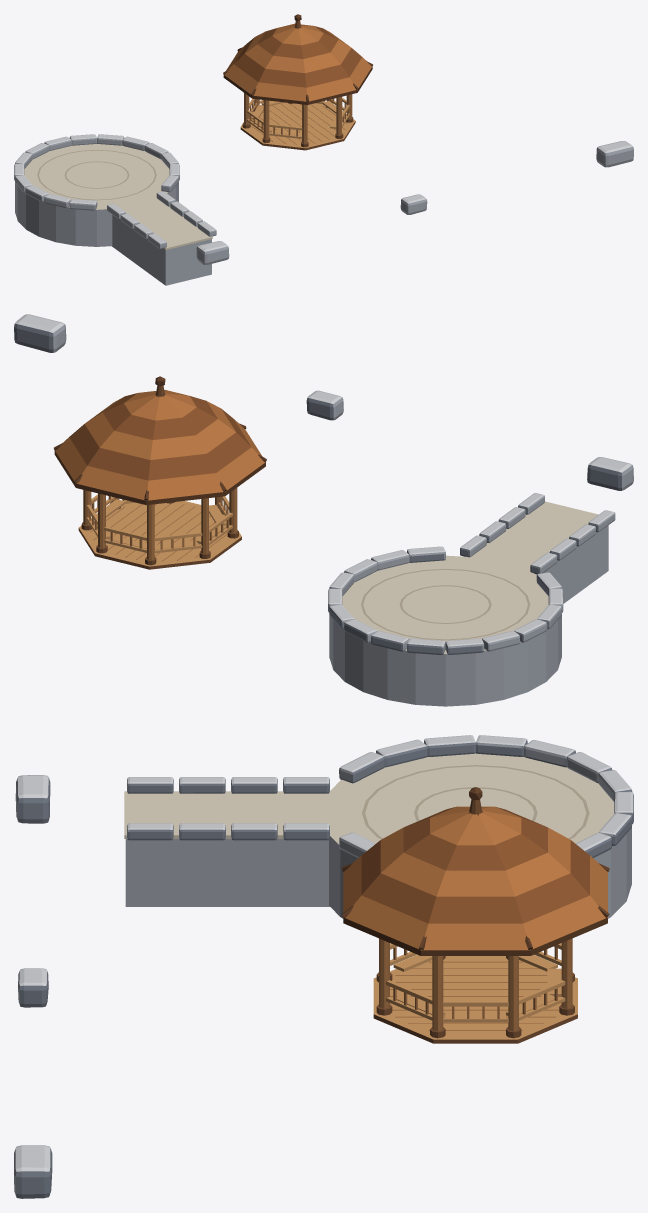
The model's file is LakeKit.glb.
The picture shows the model from 3 angles, top to bottom: view 1: azimuth 30°, elevation 25°; view 2: azimuth 150°, elevation 25°; view 3: azimuth 270°, elevation 25°; orthographic projection. The views are drawn at different scales.
Parts seen in each view (by area): view 1: GazeboBase__Stone_Side, GazeboBase__Pave, Gazebo__Roof_Light, Gazebo__Wood_Light, Gazebo__Roof_Dark, GazeboBase__Stone_Top, Gazebo__Wood_Mid, Gazebo__Roof_Trim, GazeboBase__Pave_Dark, Gazebo__Wood_Dark, RimStoneC__Stone_Side, RimStoneA__Stone_Side; view 2: GazeboBase__Stone_Side, GazeboBase__Pave, Gazebo__Roof_Light, Gazebo__Wood_Light, Gazebo__Roof_Dark, GazeboBase__Stone_Top, Gazebo__Wood_Mid, GazeboBase__Stone_Shadow, Gazebo__Roof_Trim, GazeboBase__Pave_Dark, Gazebo__Wood_Dark, RimStoneC__Stone_Shadow (+1 smaller); view 3: GazeboBase__Pave, GazeboBase__Stone_Side, Gazebo__Roof_Light, Gazebo__Roof_Dark, Gazebo__Wood_Light, GazeboBase__Stone_Shadow, GazeboBase__Stone_Top, Gazebo__Wood_Mid, Gazebo__Roof_Trim, Gazebo__Wood_Dark, GazeboBase__Pave_Dark, RimStoneC__Stone_Shadow (+4 smaller).
Part boxes in pixels (<box>): GazeboBase__Stone_Side: <box>14,137,216,285</box>; GazeboBase__Pave: <box>24,144,212,250</box>; Gazebo__Roof_Light: <box>224,23,371,101</box>; Gazebo__Wood_Light: <box>241,97,355,148</box>; Gazebo__Roof_Dark: <box>234,26,361,87</box>; GazeboBase__Stone_Top: <box>14,134,215,243</box>; Gazebo__Wood_Mid: <box>244,93,352,144</box>; Gazebo__Roof_Trim: <box>223,14,372,104</box>; GazeboBase__Pave_Dark: <box>37,150,156,200</box>; Gazebo__Wood_Dark: <box>240,20,355,150</box>; RimStoneC__Stone_Side: <box>596,147,633,167</box>; RimStoneA__Stone_Side: <box>196,246,229,264</box>; GazeboBase__Stone_Side: <box>329,495,615,706</box>; GazeboBase__Pave: <box>342,501,598,653</box>; Gazebo__Roof_Light: <box>55,390,264,500</box>; Gazebo__Wood_Light: <box>79,494,241,566</box>; Gazebo__Roof_Dark: <box>69,393,251,480</box>; GazeboBase__Stone_Top: <box>328,493,614,646</box>; Gazebo__Wood_Mid: <box>83,488,237,561</box>; GazeboBase__Stone_Shadow: <box>328,505,598,654</box>; Gazebo__Roof_Trim: <box>53,376,266,505</box>; GazeboBase__Pave_Dark: <box>361,568,530,640</box>; Gazebo__Wood_Dark: <box>78,385,241,569</box>; RimStoneC__Stone_Shadow: <box>14,324,53,352</box>; GazeboBase__Pave: <box>124,753,614,844</box>; GazeboBase__Stone_Side: <box>125,739,631,918</box>; Gazebo__Roof_Light: <box>343,806,607,950</box>; Gazebo__Roof_Dark: <box>361,807,589,923</box>; Gazebo__Wood_Light: <box>373,943,577,1039</box>; GazeboBase__Stone_Shadow: <box>127,740,633,857</box>; GazeboBase__Stone_Top: <box>127,735,633,850</box>; Gazebo__Wood_Mid: <box>379,938,572,1031</box>; Gazebo__Roof_Trim: <box>342,787,609,955</box>; Gazebo__Wood_Dark: <box>373,799,577,1043</box>; GazeboBase__Pave_Dark: <box>362,765,589,839</box>; RimStoneC__Stone_Shadow: <box>15,1148,52,1198</box>.
Size of the model in its own units: 82.79 by 24.2 by 47.62.
